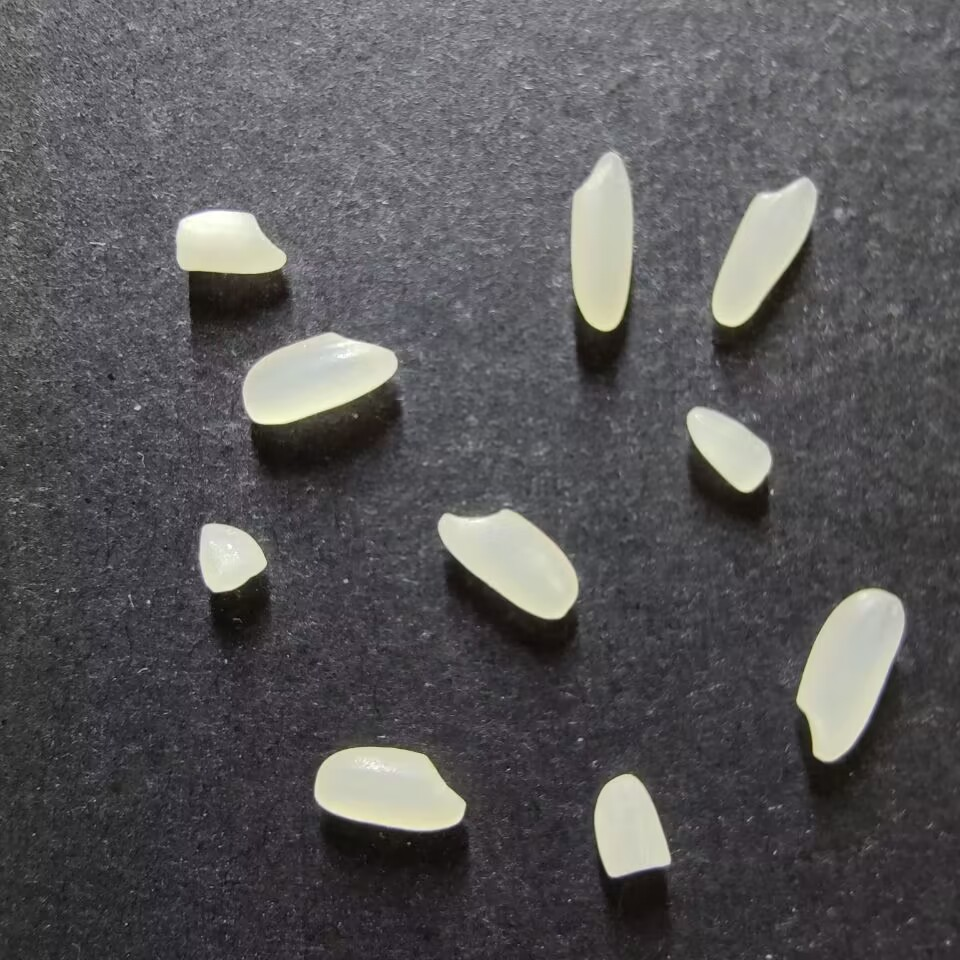broken: (593, 773, 670, 879), (686, 406, 773, 494), (175, 210, 287, 275), (198, 523, 267, 594)
rice: (708, 170, 825, 337), (795, 589, 905, 762), (437, 509, 579, 620), (241, 331, 397, 425), (313, 746, 467, 832), (569, 151, 634, 333)
